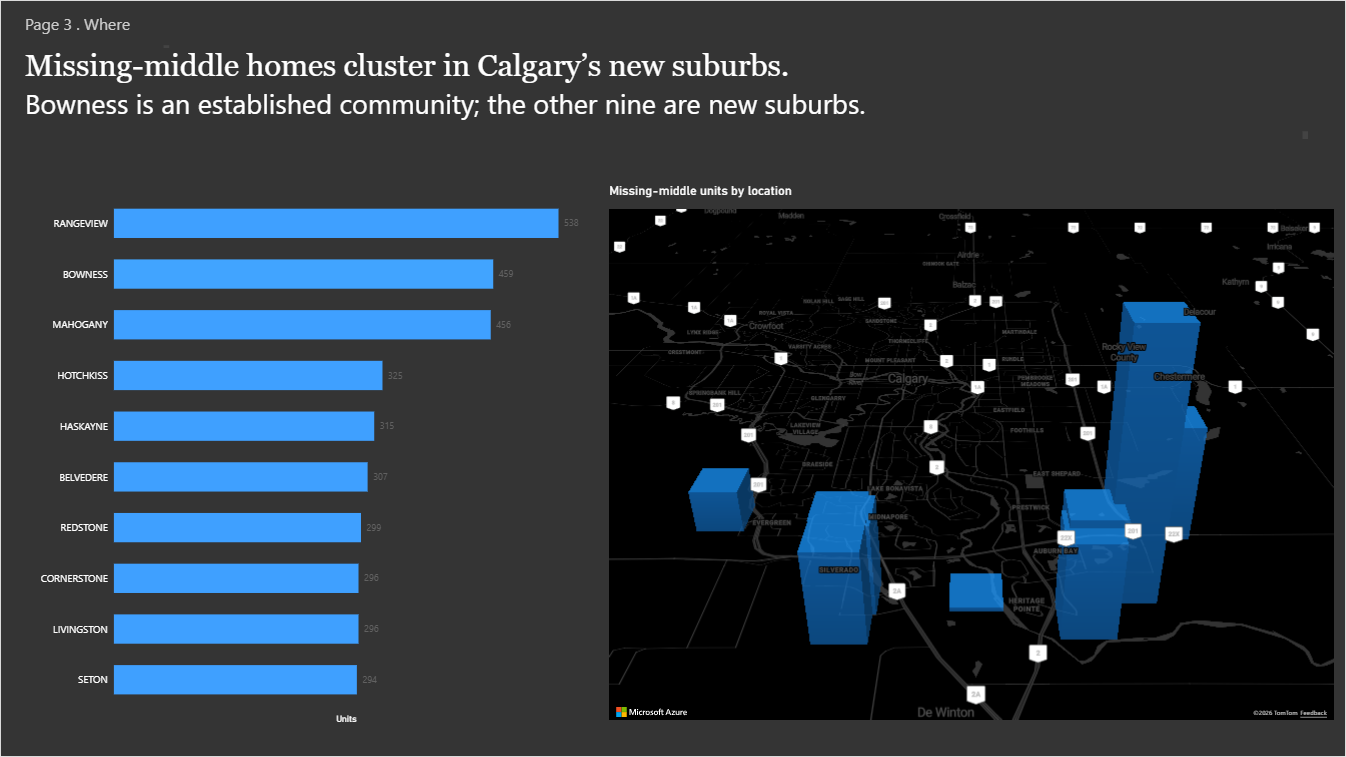

The page's visual inventory and layout, read from the dashboard file:
{"tool":"powerbi","page":{"name":"Page 3","canvas":[1920,1080],"ordinal":2},"visuals":[{"type":"textbox","title":"Page 3 . Where","box":[34.4,17.2,206.2,50],"z":0},{"type":"textbox","title":"Missing-middle homes cluster in Calgary’s new suburbs.","box":[34.3,67.1,1832.9,130],"z":1000},{"type":"clusteredBarChart","fields":{"Category":["gold dim_community.community_name"],"Y":["Measure.Units"]},"box":[34.3,245.7,807.1,802.9],"z":2000},{"type":"azureMap","title":"Missing-middle units by location","fields":{"Size":["Measure.Missing Middle Units"],"X":["gold dim_community.Community Lon"],"Y":["gold dim_community.Community Lat"]},"box":[852.9,245.7,1067.1,797.1],"z":3000}]}

Visuals, with their boxes in screenshot pixels (x1, y1, x2, y2), scaled from the page's 1920x1080 canvas onto the 1346x757 screenshot:
"Page 3 . Where" textbox: x1=24 y1=12 x2=169 y2=47
"Missing-middle homes cluster in Calgary’s new suburbs." textbox: x1=24 y1=47 x2=1309 y2=138
clusteredBarChart - gold dim_community.community_name x Measure.Units: x1=24 y1=172 x2=590 y2=735
"Missing-middle units by location" azureMap: x1=598 y1=172 x2=1345 y2=731
